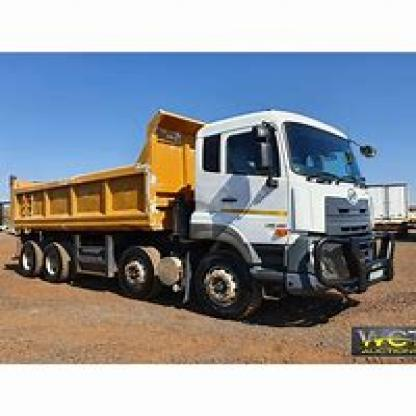dump_truck: (6, 96, 393, 322)
